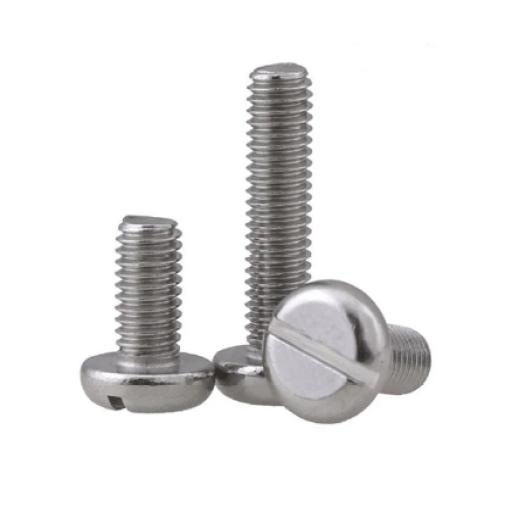Slotted: (269, 275, 384, 423)
